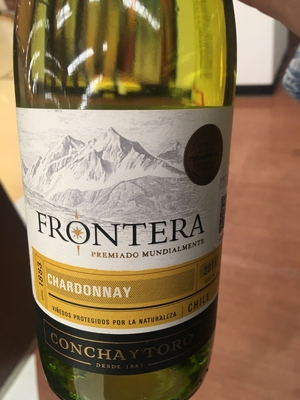frontera chardonnay: (14, 18, 245, 397)
